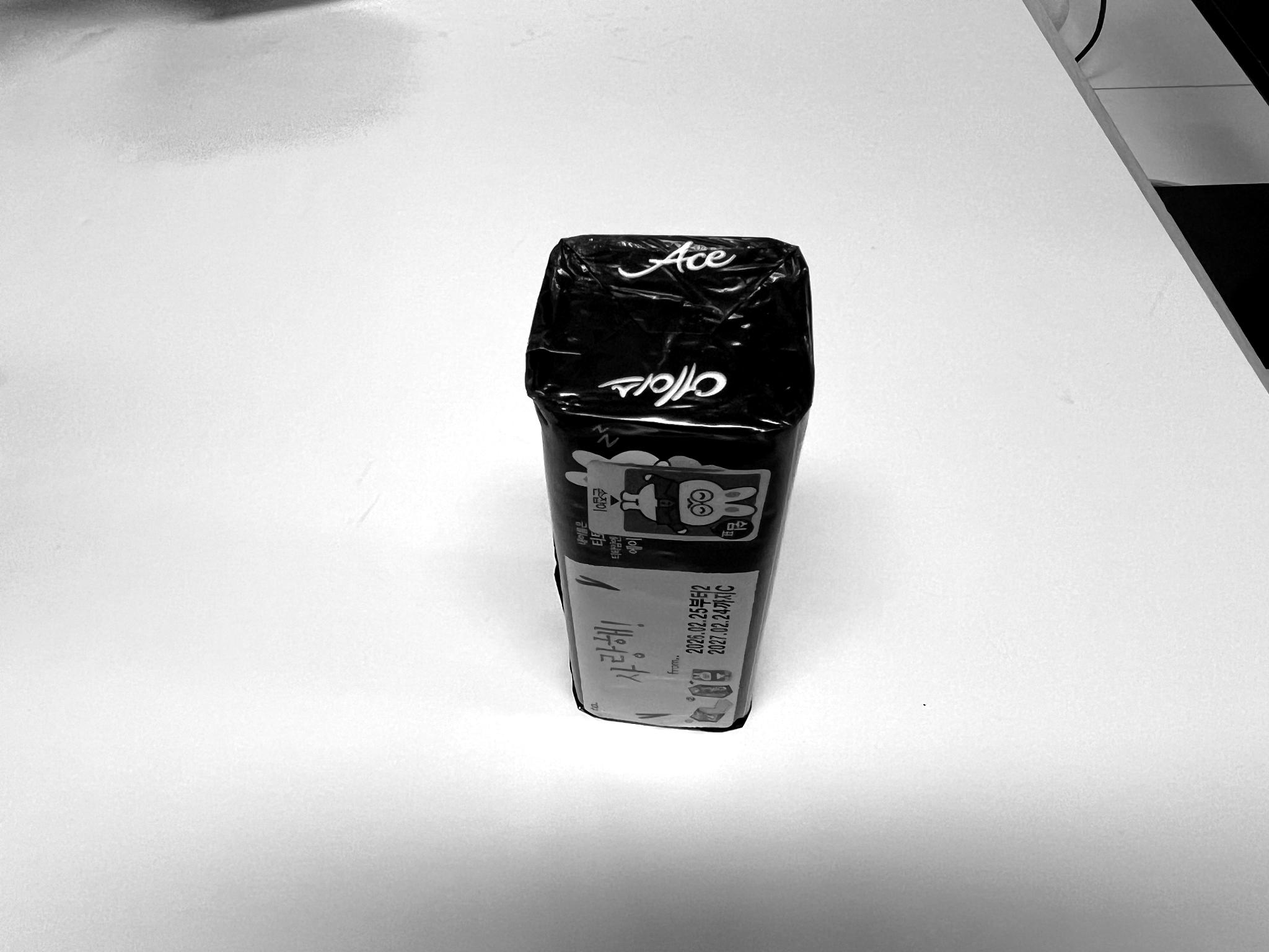cracker_ace: (524, 236, 817, 729)
